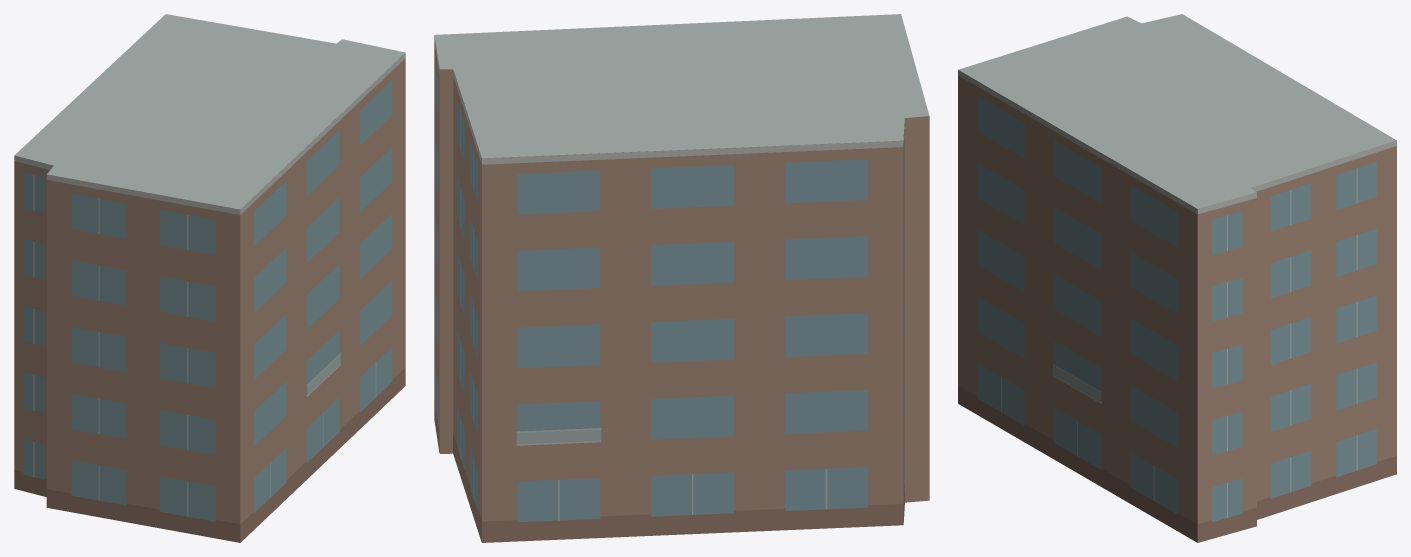
Rendered from survey-upis-32753610.glb.
3 views of the same model, side by side, from view 1: azimuth 30°, elevation 25°; view 2: azimuth 150°, elevation 25°; view 3: azimuth 270°, elevation 25° (orthographic). The views are drawn at different scales.
Visible parts, largest first — view 1: survey-upis-32753610.tmp; view 2: survey-upis-32753610.tmp; view 3: survey-upis-32753610.tmp.
Part boxes in pixels (x1=…): survey-upis-32753610.tmp: x1=14, y1=14, x2=405, y2=542; survey-upis-32753610.tmp: x1=434, y1=14, x2=929, y2=542; survey-upis-32753610.tmp: x1=958, y1=14, x2=1396, y2=542.
Bounding box in the file's own units: 18.42 × 14.7 × 17.52.
